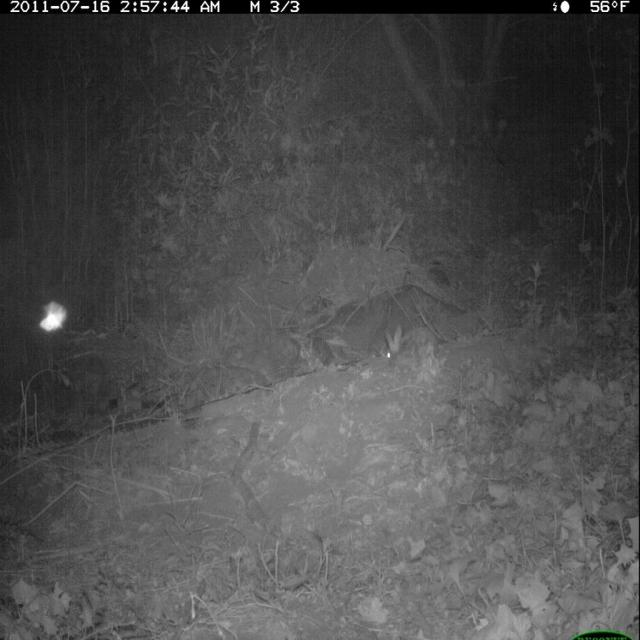rabbit: (381, 318, 441, 377)
